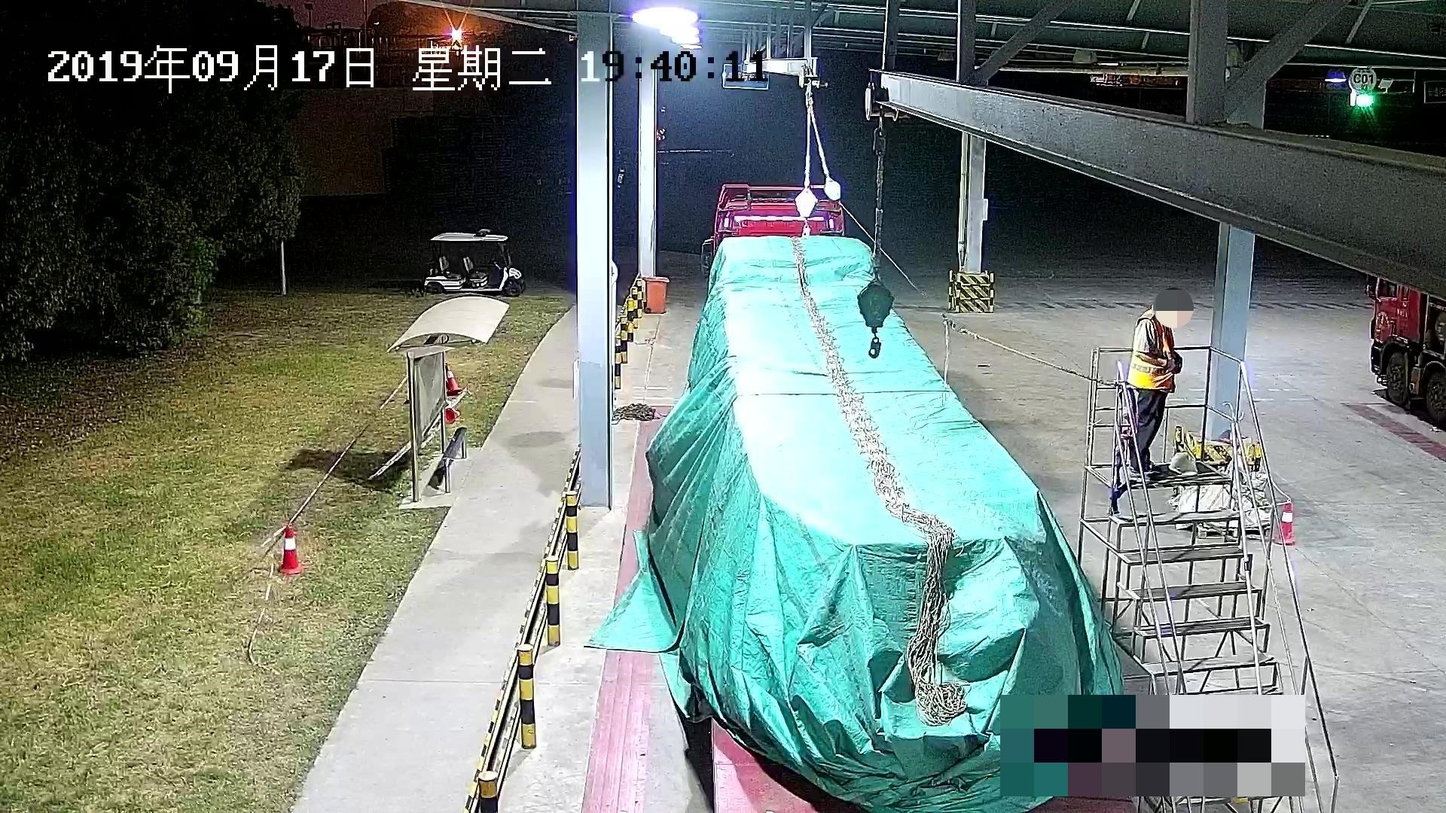head: (1159, 288, 1192, 323)
